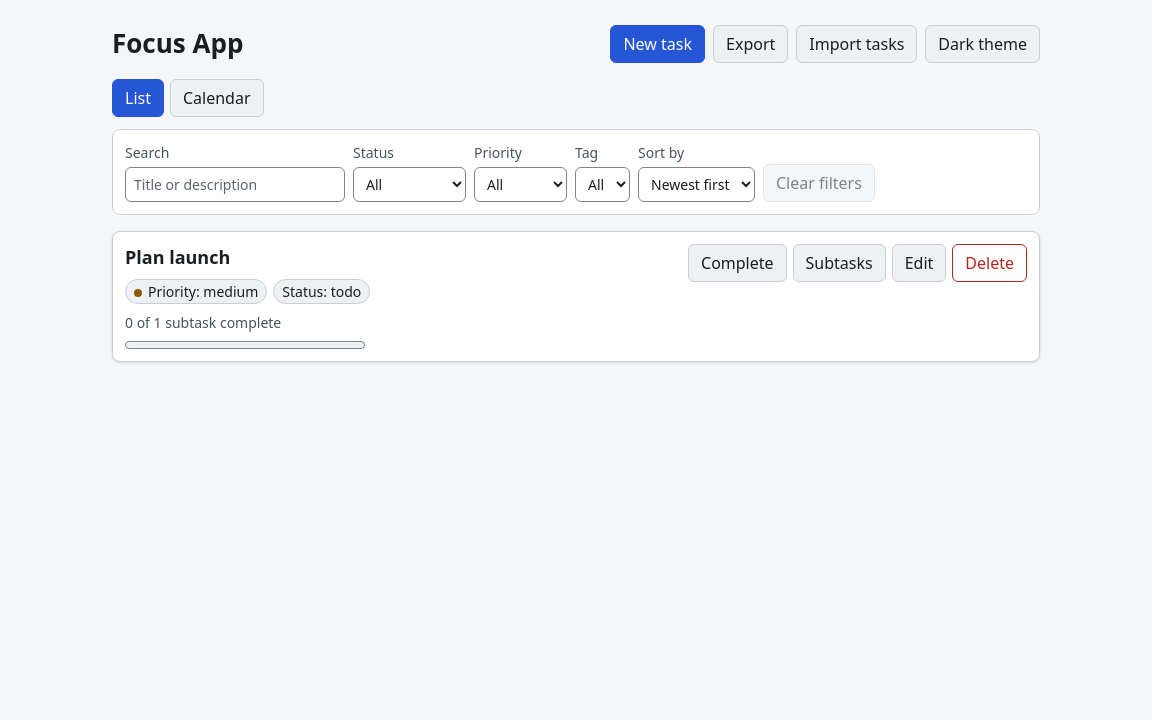
completing subtasks and the prompt (US2) › changes nothing on Leave open or Escape, and asks again only after the subtasks change
Click the button with aria-label "Subtasks for Plan launch". click: (839, 263)
box: [793,244,886,282]
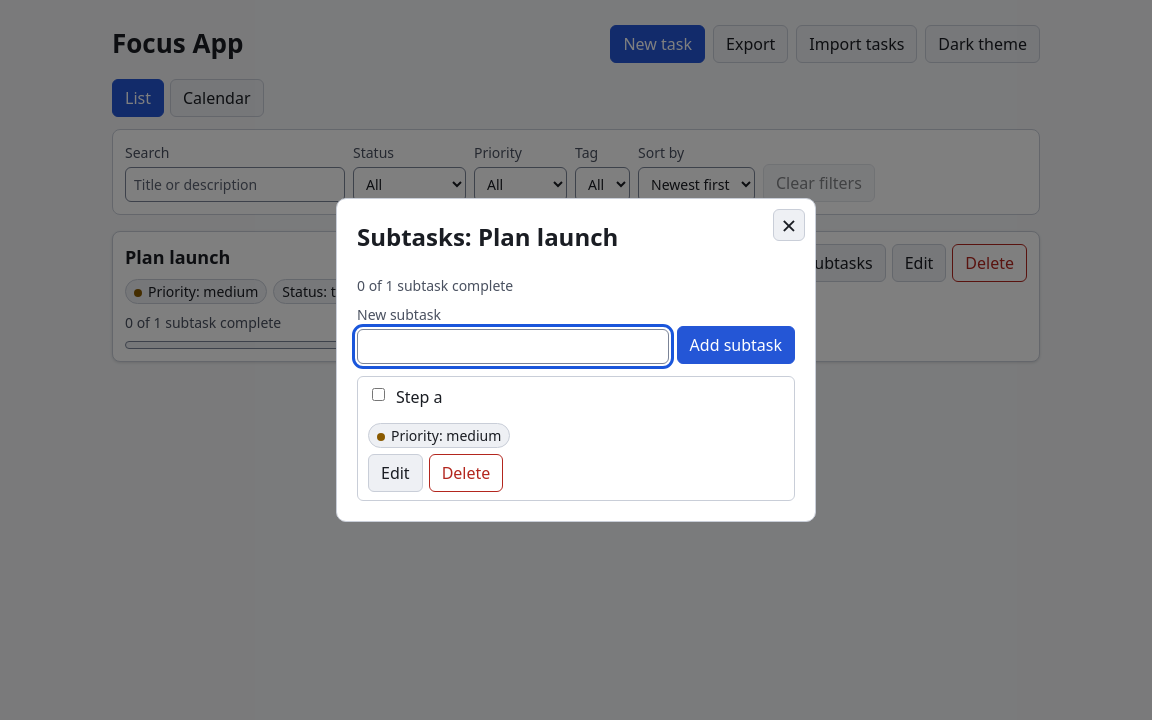
Click the checkbox labelled "Step a". click: (378, 394)
box: [372,388,385,401]
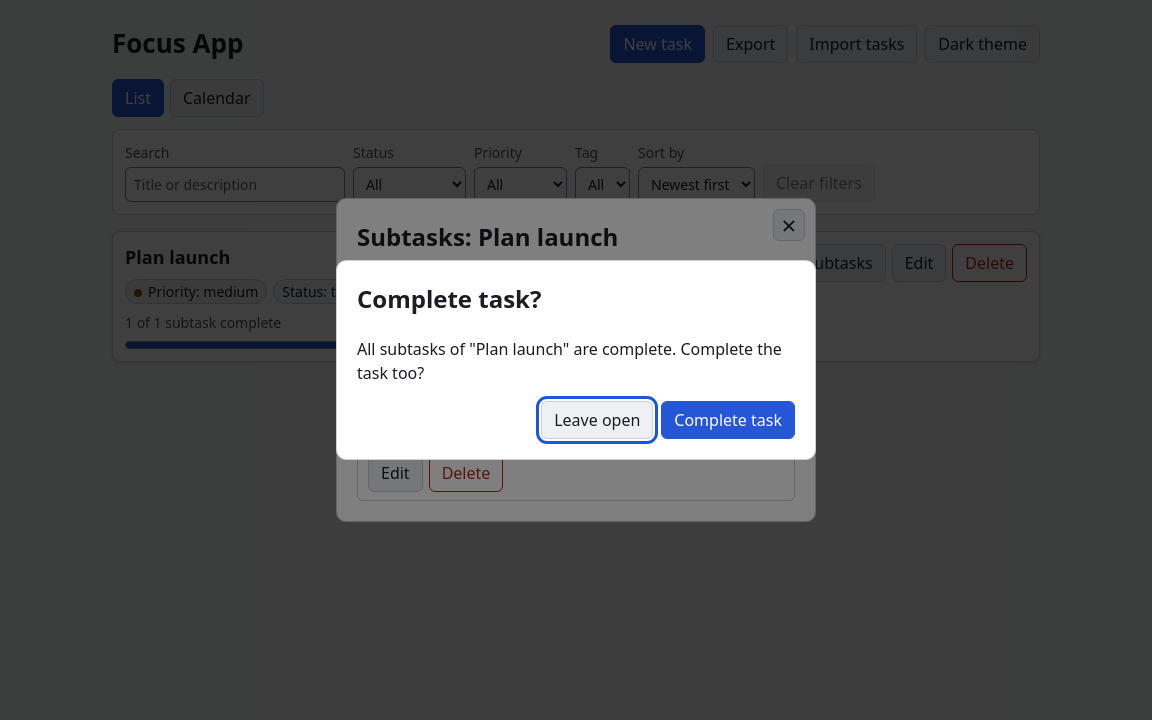
Click the button "Leave open". click: (597, 420)
box: [541,401,653,439]
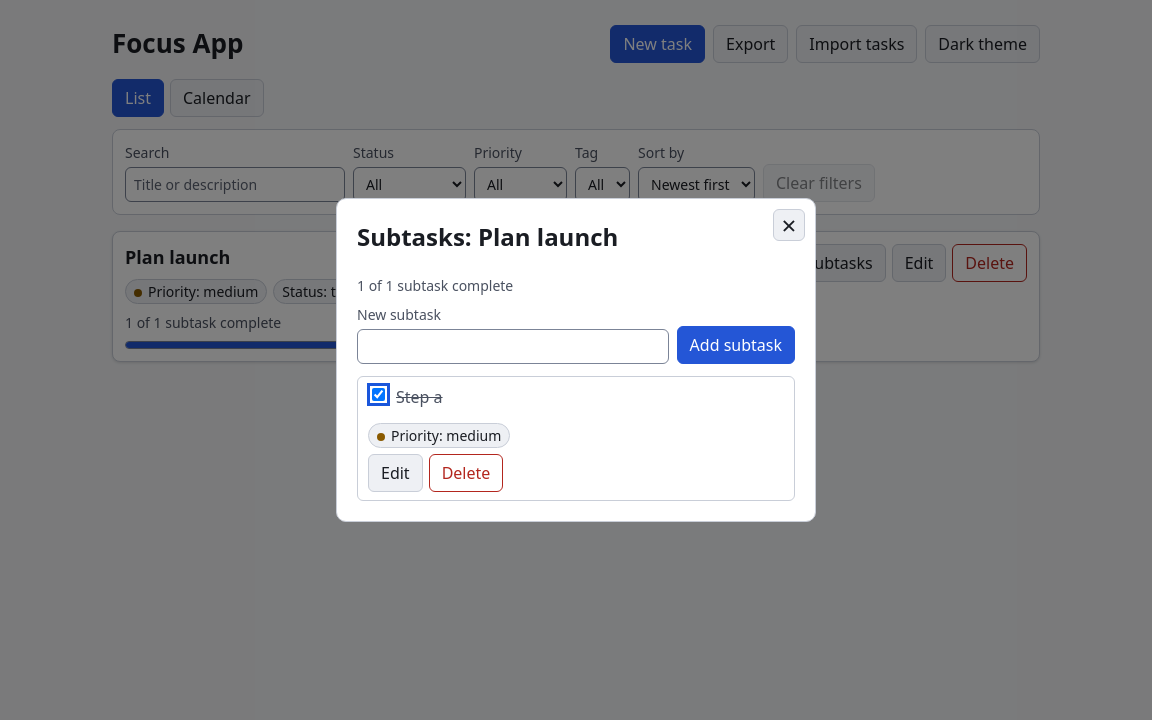
Check: the heading "Complete task?" is gone
Click the checkbox labelled "Step a". click: (378, 394)
box: [372,388,385,401]
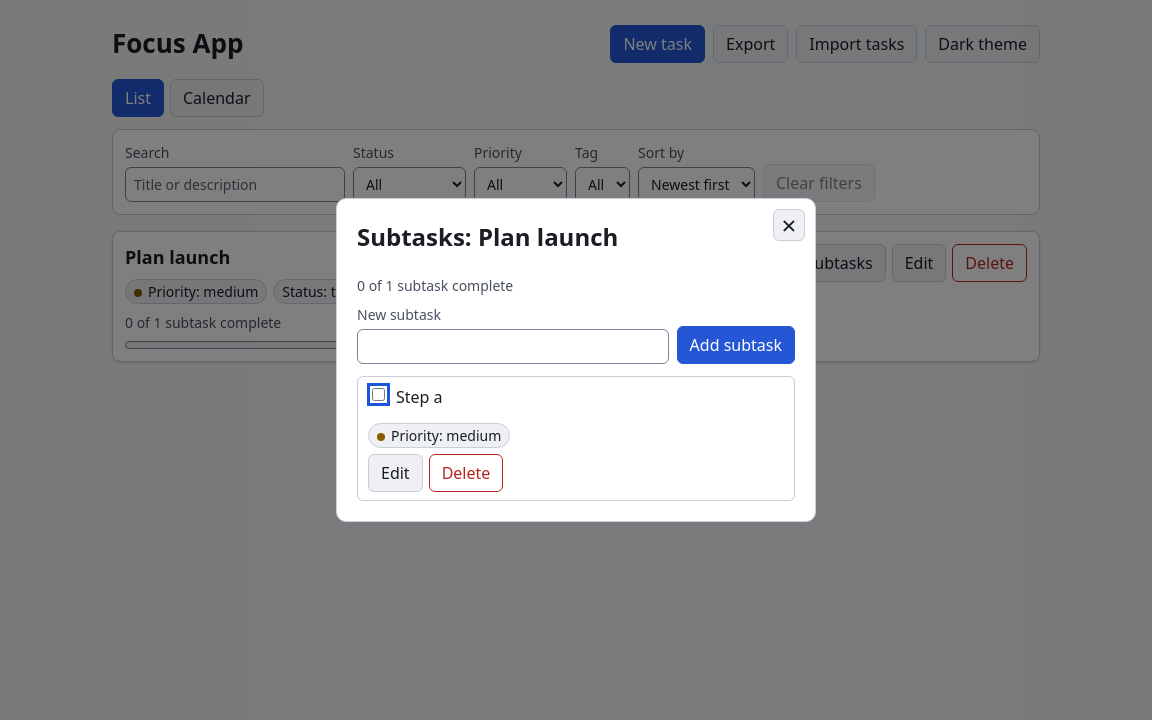
Click the checkbox labelled "Step a". click: (378, 394)
box: [372,388,385,401]
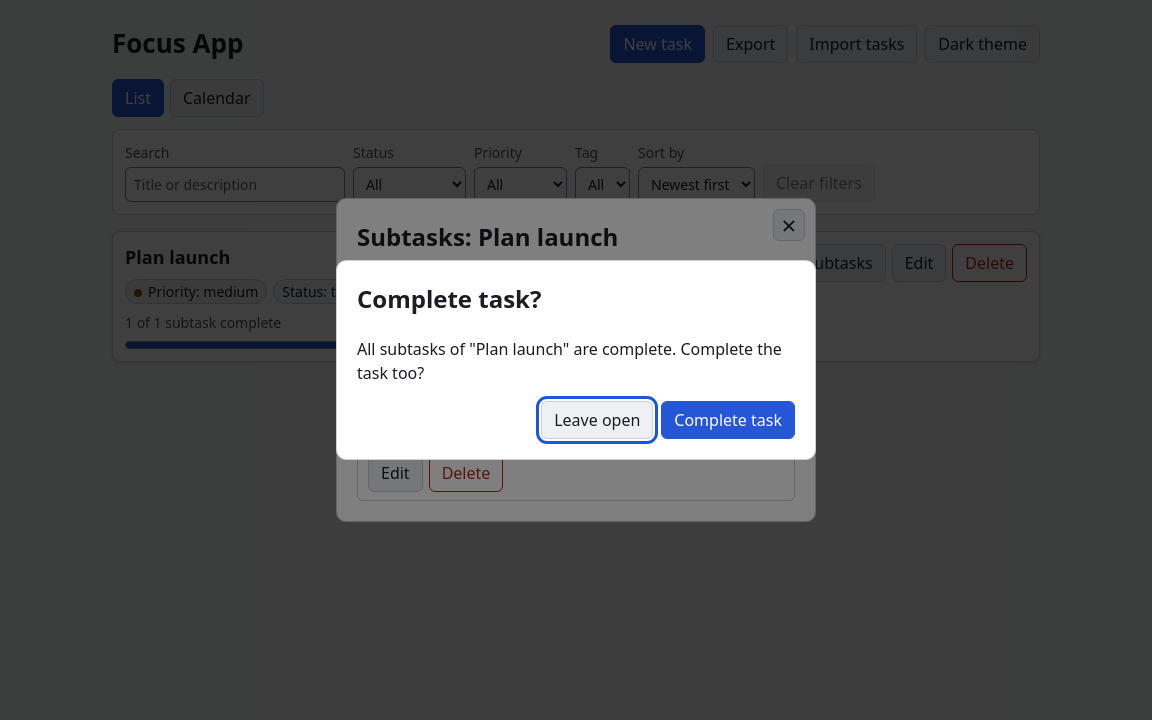
Press Escape
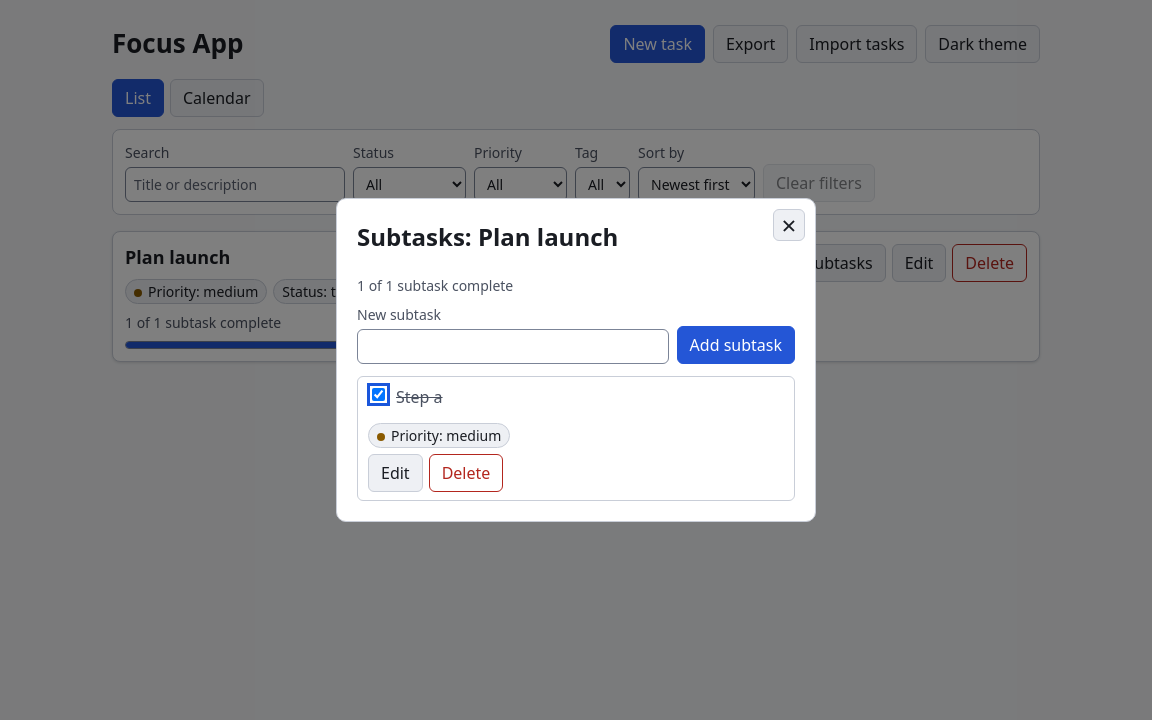
Check: the dialog "Subtasks:" is shown, box [336,198,816,522]
Check: the heading "Complete task?" is gone
